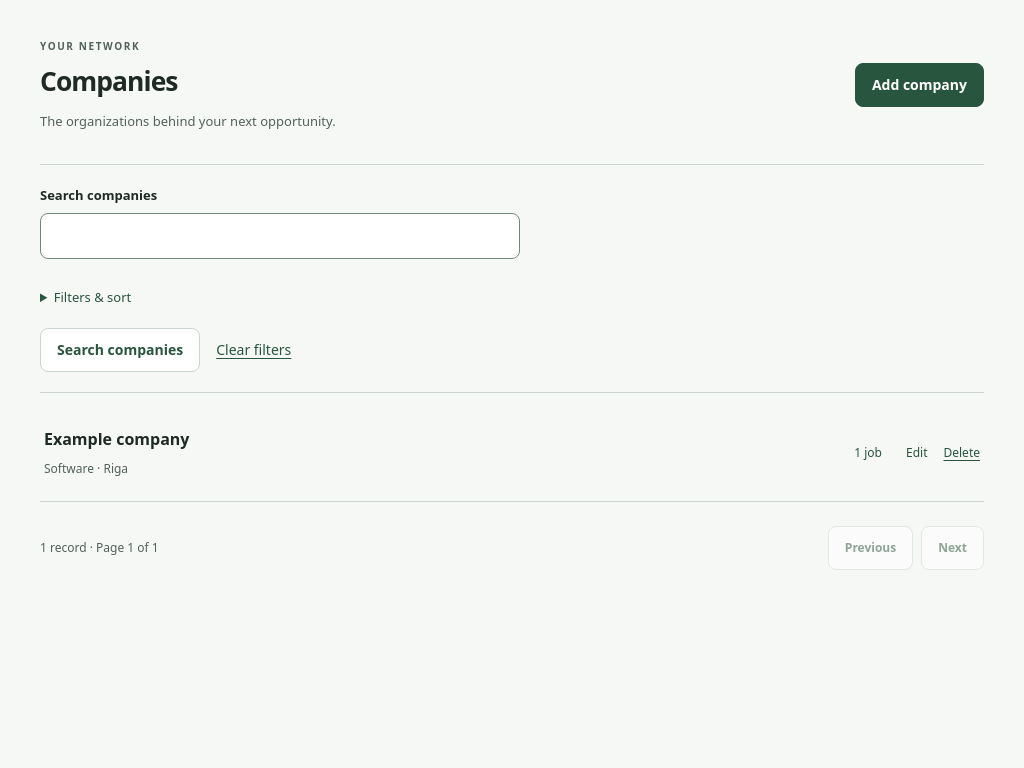
Scenario: lists companies and keeps records visible after delete conflict
This screenshot has width=1024, height=768.
Expected: the link "Example company" is shown, [44,428,190,450]
Click the button "Delete" at point(962, 453), box [944,438,980,469]
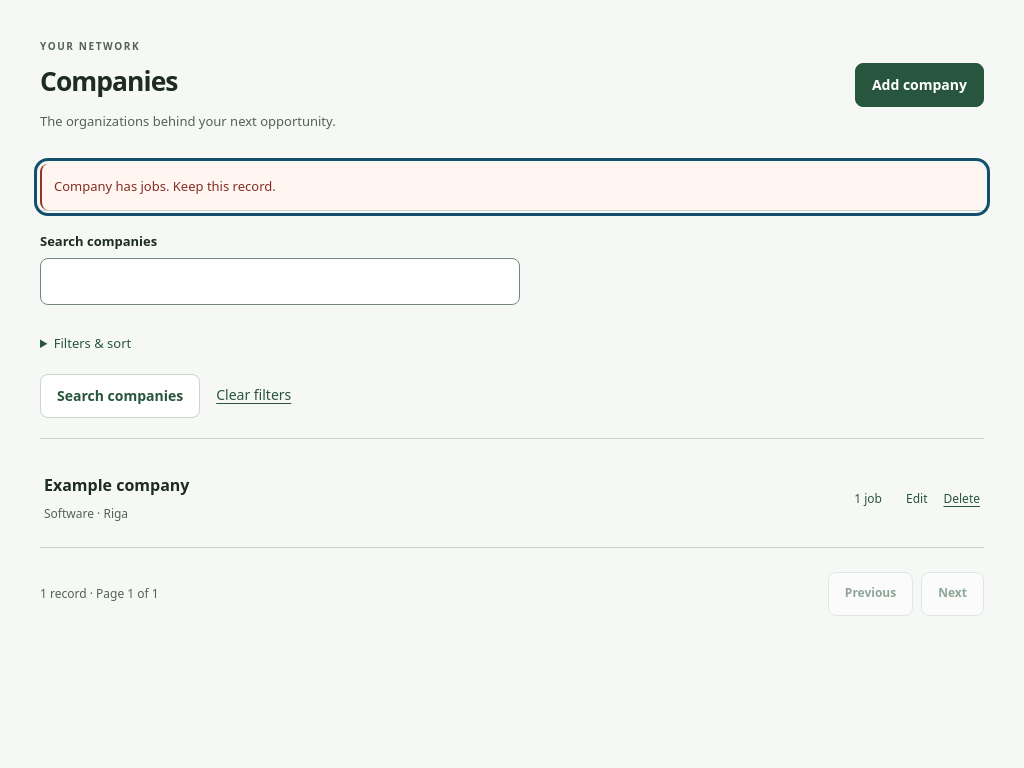
Expected: the link "Example company" is shown, [44,474,190,496]
Expected: the message shows "Company has jobs", [54,177,276,195]
